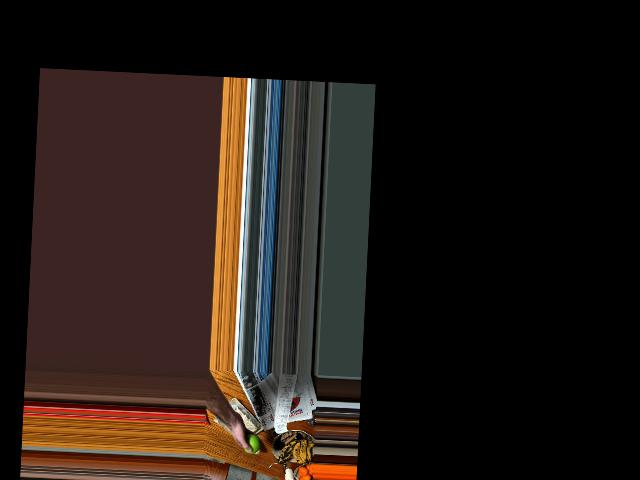apple: (240, 431, 261, 454)
